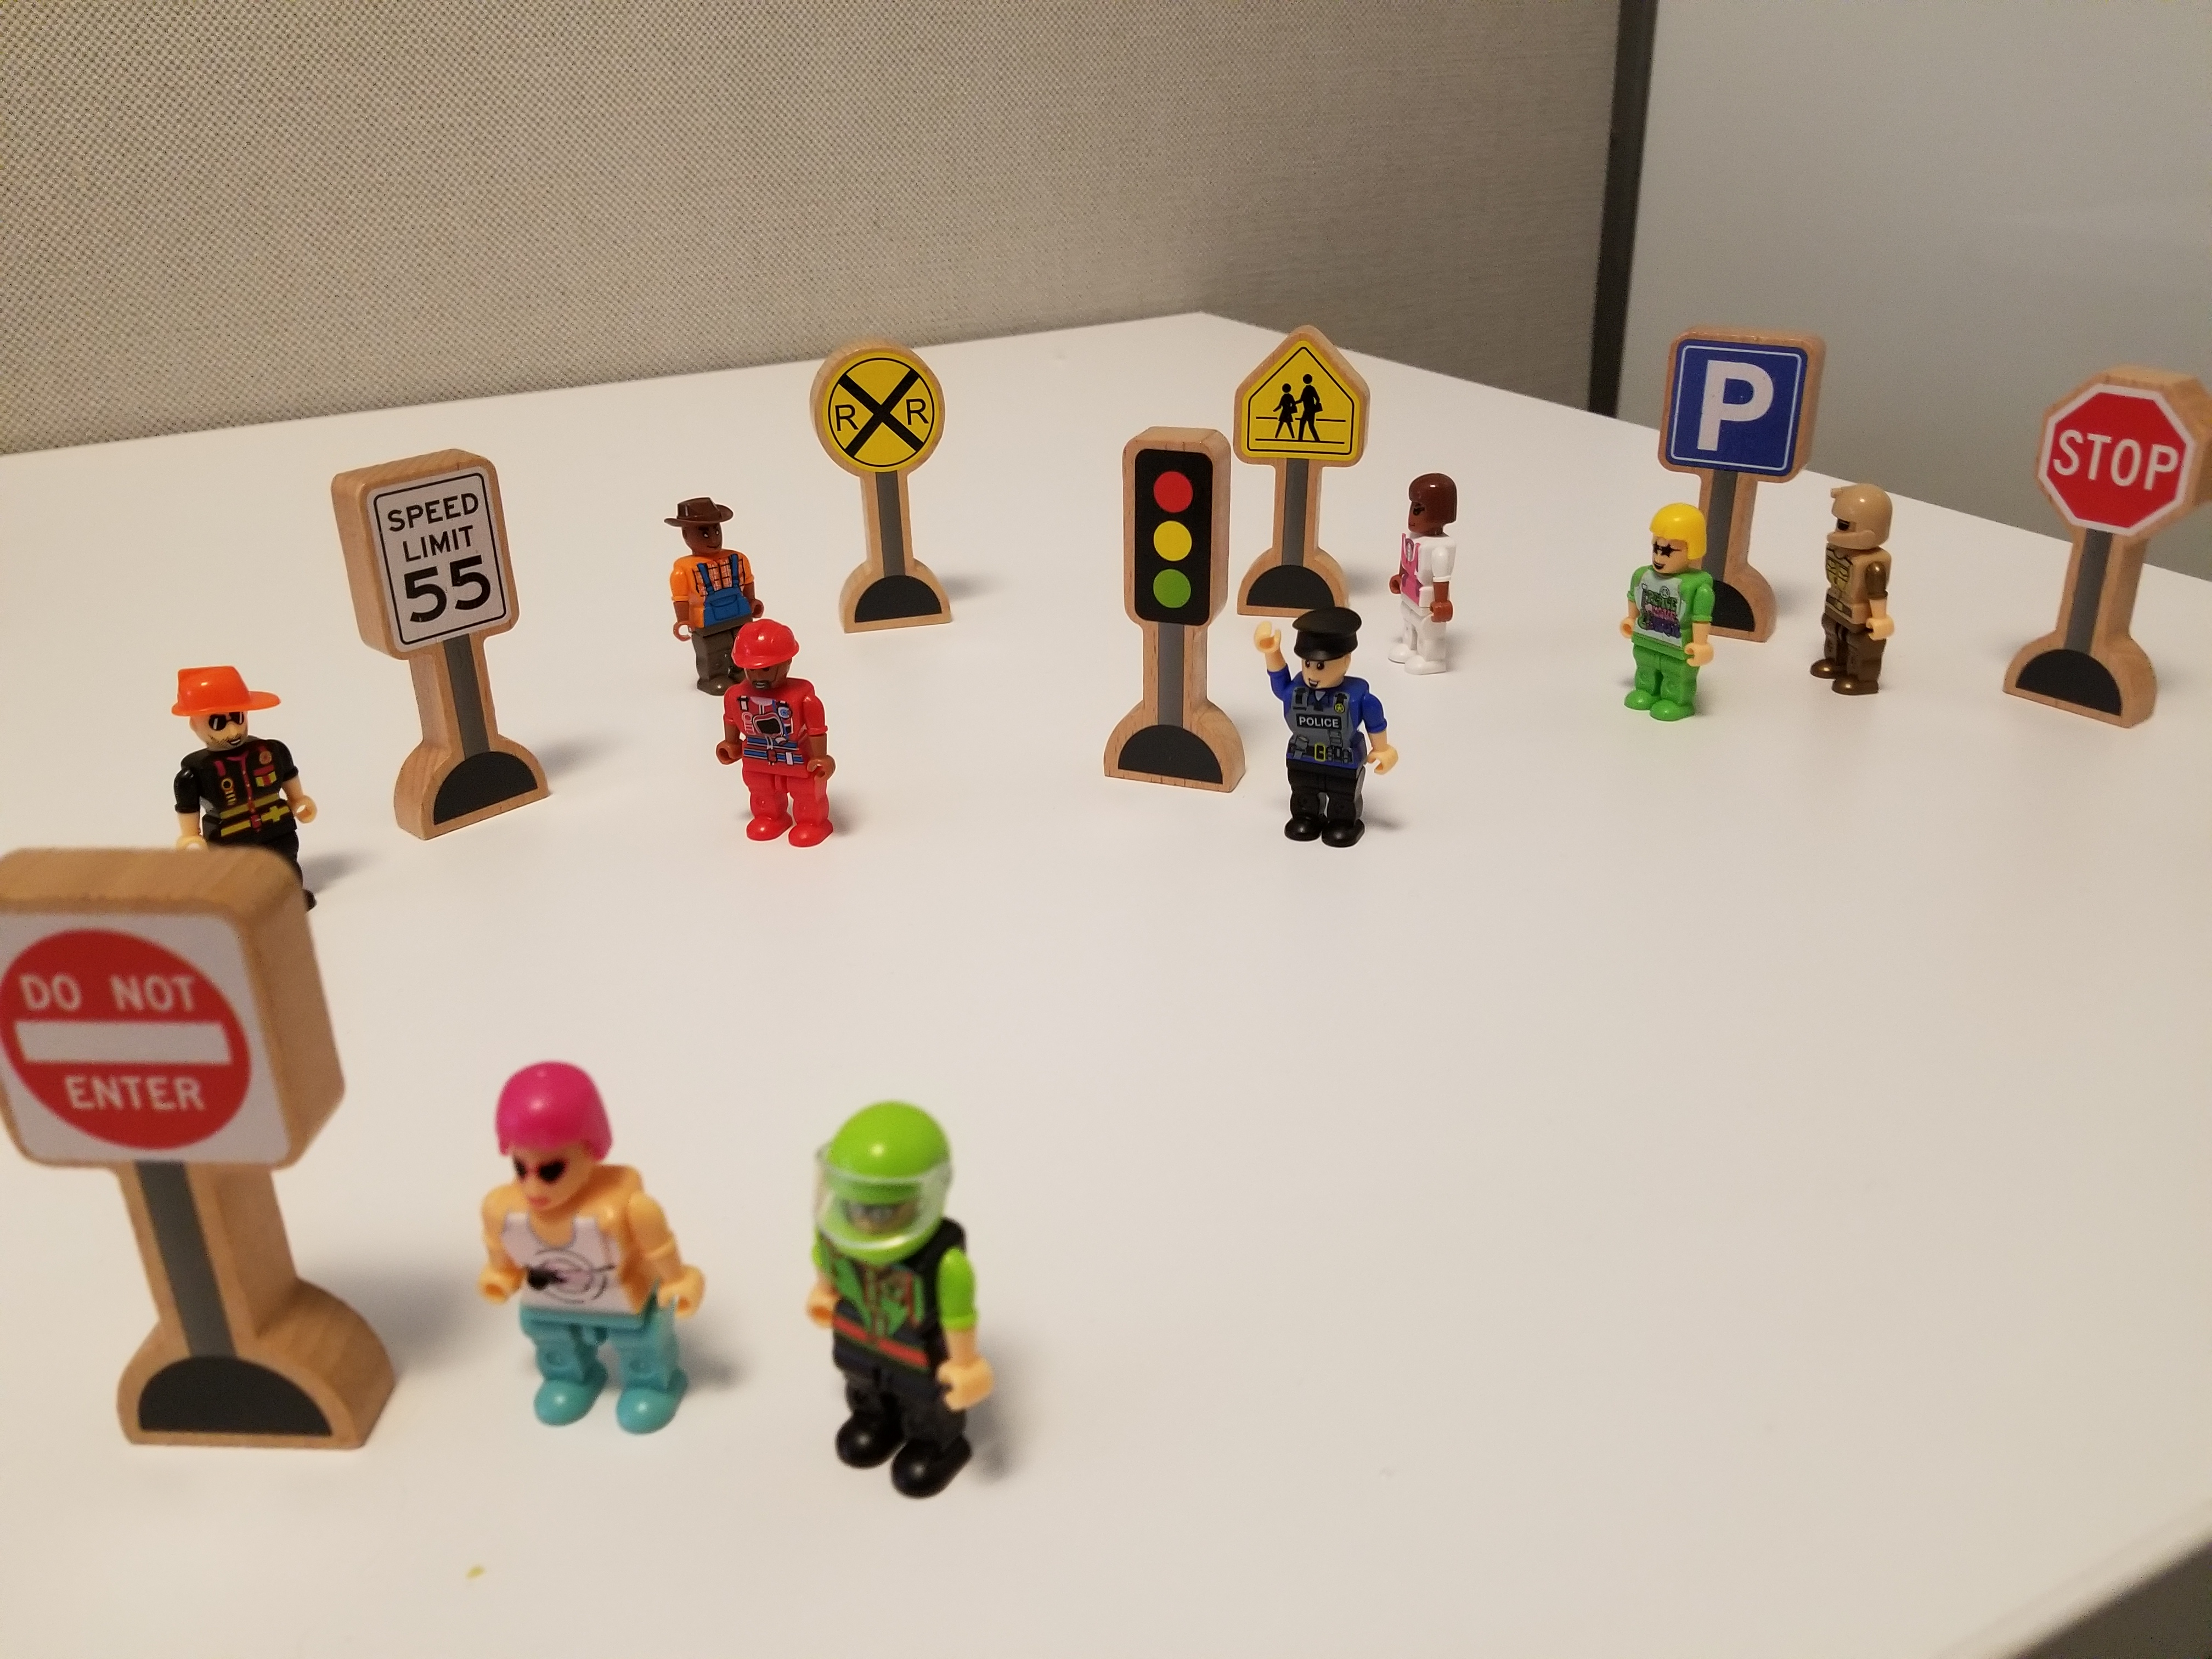Do not enter: (3, 859, 433, 1458)
Parking: (1649, 311, 1825, 495)
Railroad Crossing: (804, 302, 991, 627), (1232, 282, 1395, 580)
Speed limit 55: (308, 460, 585, 855)
Stop: (2016, 343, 2212, 793)
Traffic Light: (1081, 387, 1245, 817)
person: (754, 1072, 1006, 1506), (451, 1048, 706, 1445), (1232, 585, 1432, 892), (1801, 466, 1950, 727), (146, 646, 328, 855), (710, 618, 848, 870), (1605, 488, 1746, 736), (1397, 460, 1502, 701), (668, 488, 763, 653)
